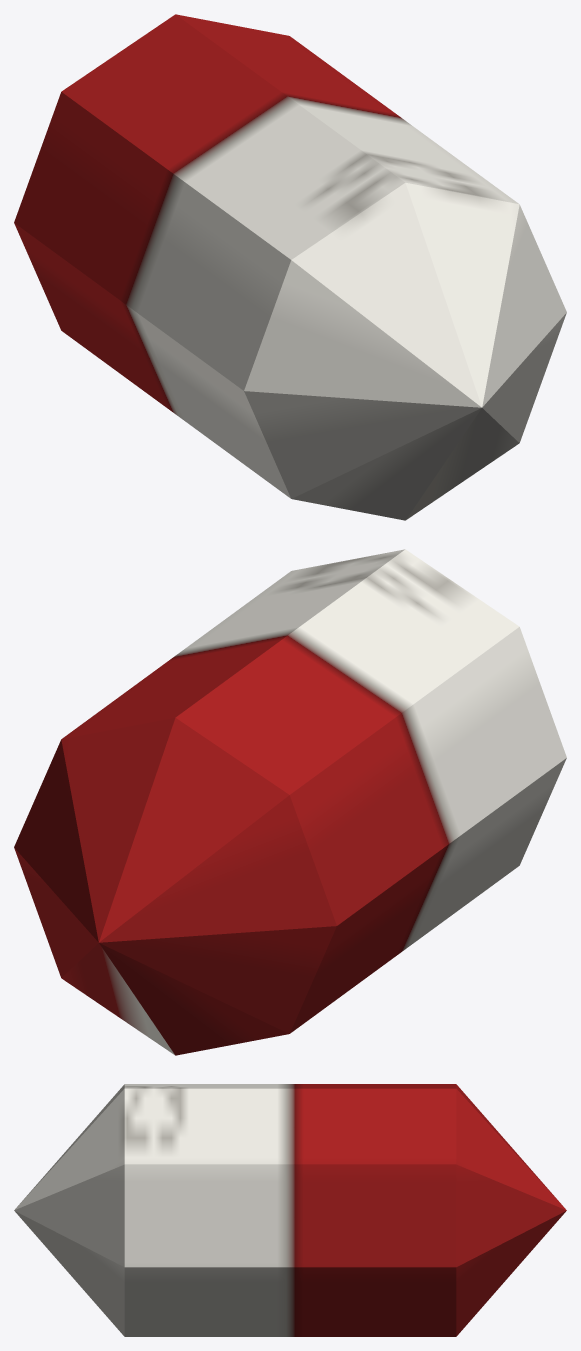
File: SM_Pill_PSX.fbx
3 renders of one model, top to bottom at view 1: azimuth 30°, elevation 25°; view 2: azimuth 150°, elevation 25°; view 3: azimuth 270°, elevation 25°, orthographic. The views are drawn at different scales.
Visible parts, largest first — view 1: SM_Pill; view 2: SM_Pill; view 3: SM_Pill.
Part boxes in pixels (bbox=[...]): SM_Pill: bbox=[14, 14, 566, 520]; SM_Pill: bbox=[14, 549, 566, 1055]; SM_Pill: bbox=[14, 1084, 566, 1336].
Bounding box in the file's own units: 0.72 × 0.72 × 1.48.
Materials: 1 (1 with a texture image).
